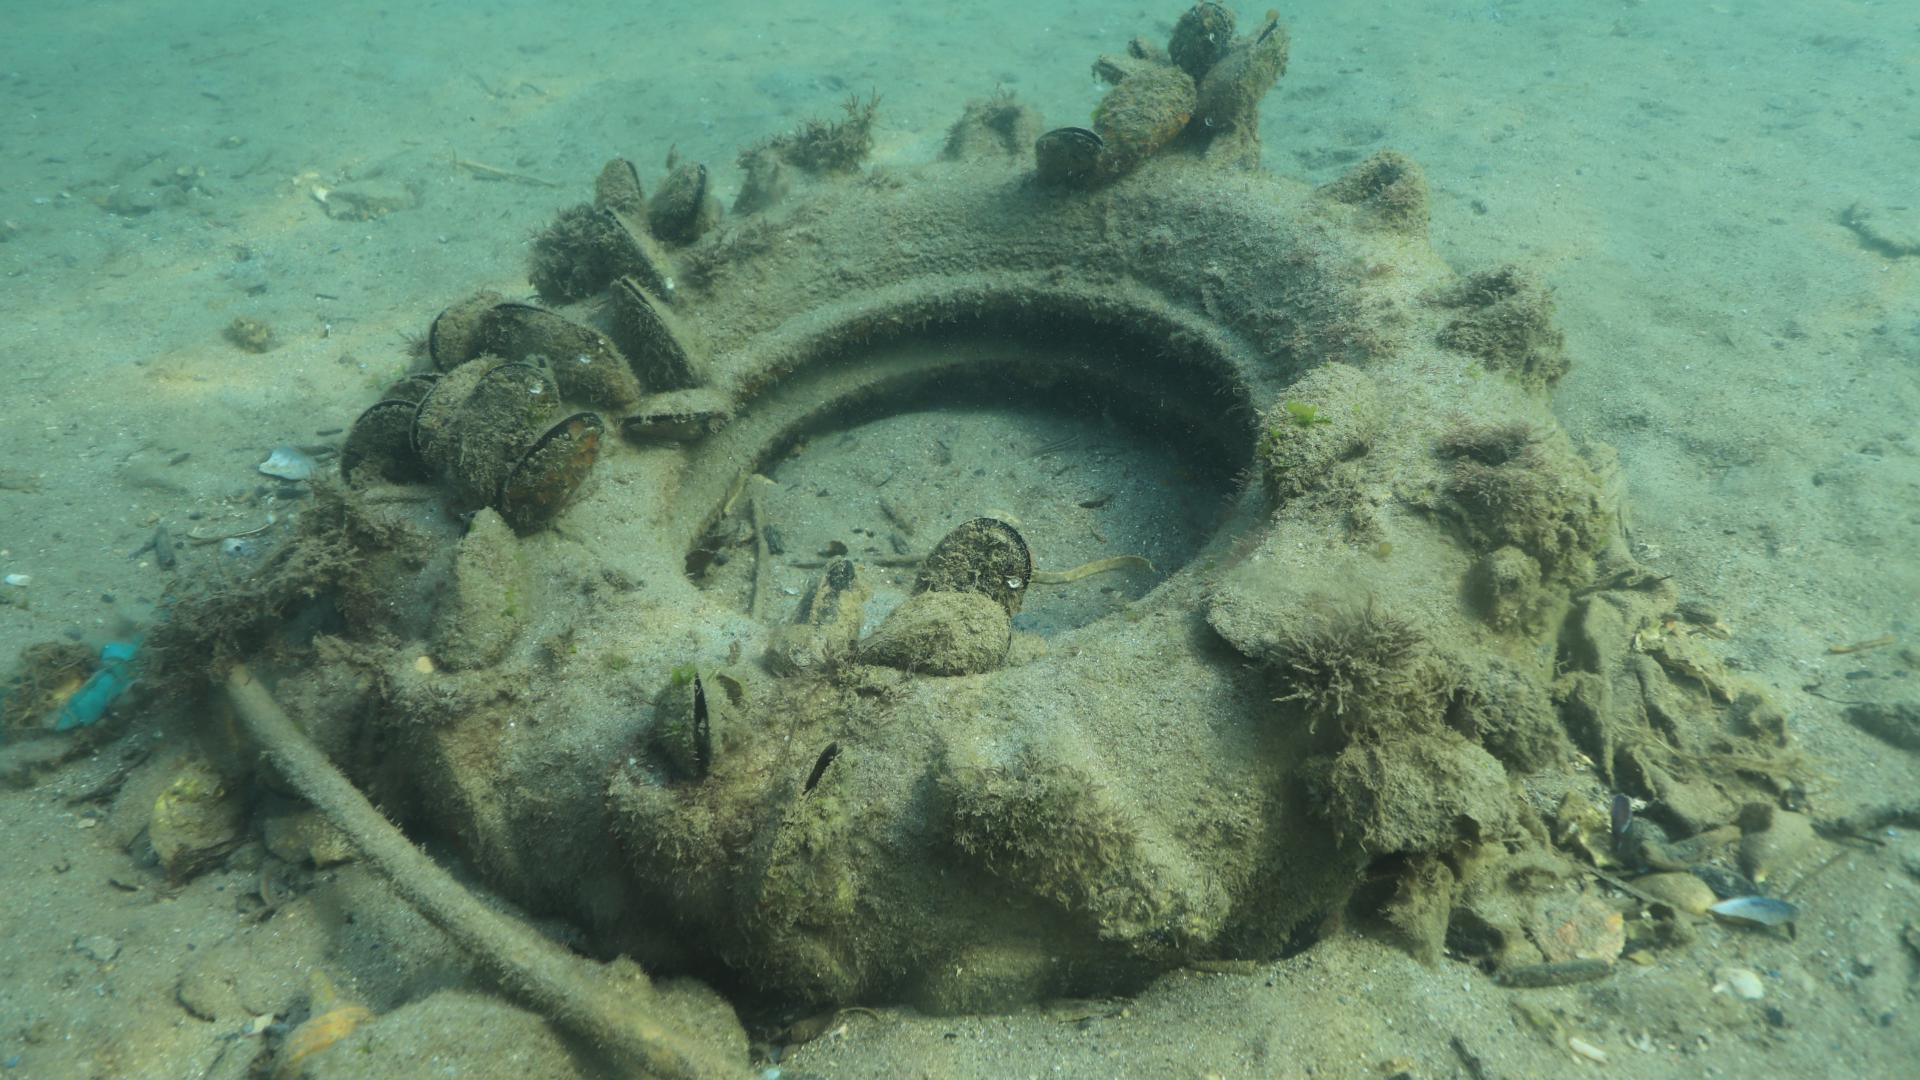tire: (334, 103, 1582, 1025)
